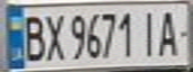1: (115, 8, 139, 59)
6: (84, 10, 103, 60)
7: (100, 9, 121, 58)
9: (66, 10, 87, 61)
A: (154, 7, 184, 57)
B: (18, 11, 48, 63)
I: (136, 7, 160, 57)
X: (42, 10, 66, 62)
